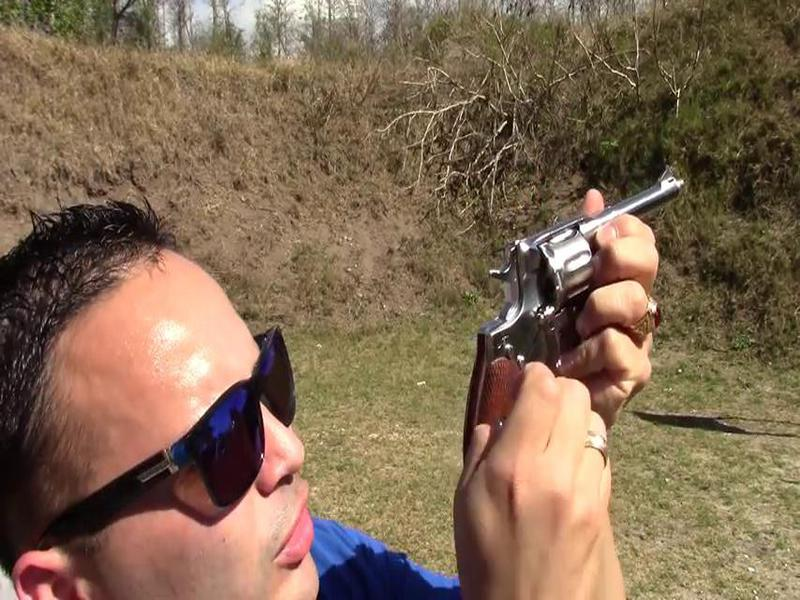Revolver: (438, 149, 738, 450)
